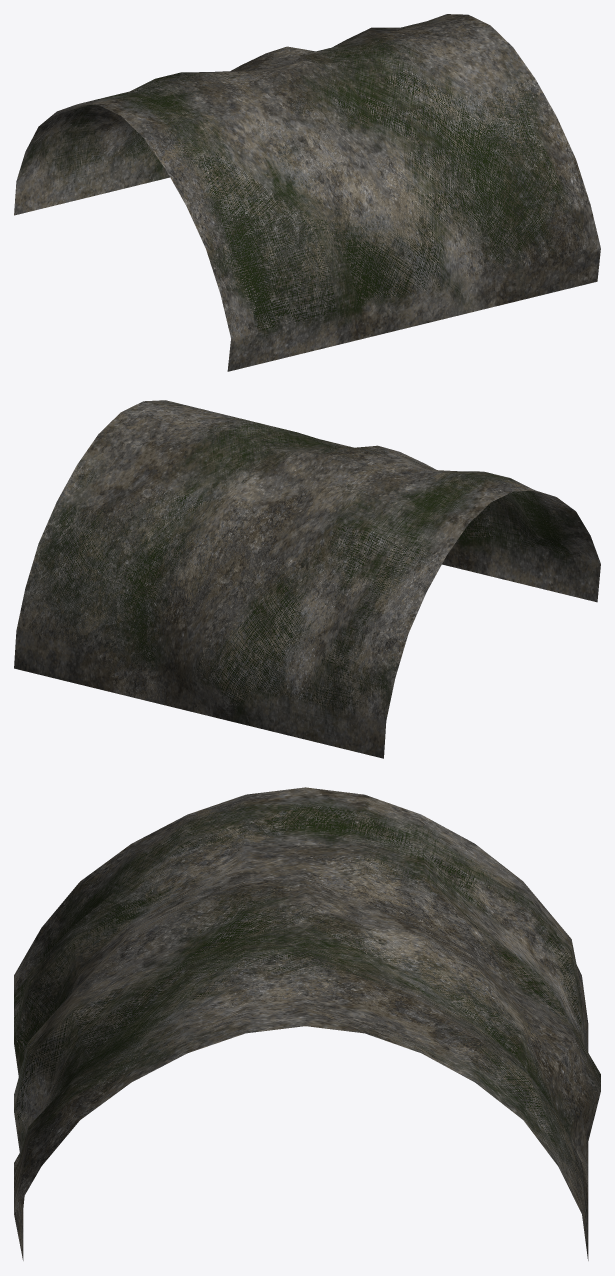
Rendered from underground_ceiling_01.fbx.
3 views of the same model, one above another, from view 1: azimuth 30°, elevation 25°; view 2: azimuth 150°, elevation 25°; view 3: azimuth 270°, elevation 25° (orthographic). The views are drawn at different scales.
Parts seen in each view (by area): view 1: underground_ceiling_05; view 2: underground_ceiling_05; view 3: underground_ceiling_05.
Boxes of the visible parts, left/top/right/bottom form: underground_ceiling_05: left=14, top=14, right=600, bottom=371; underground_ceiling_05: left=14, top=400, right=600, bottom=758; underground_ceiling_05: left=14, top=787, right=600, bottom=1260.
Size of the model in its own units: 330 by 156 by 343.
Materials: 1 (1 with a texture image).
